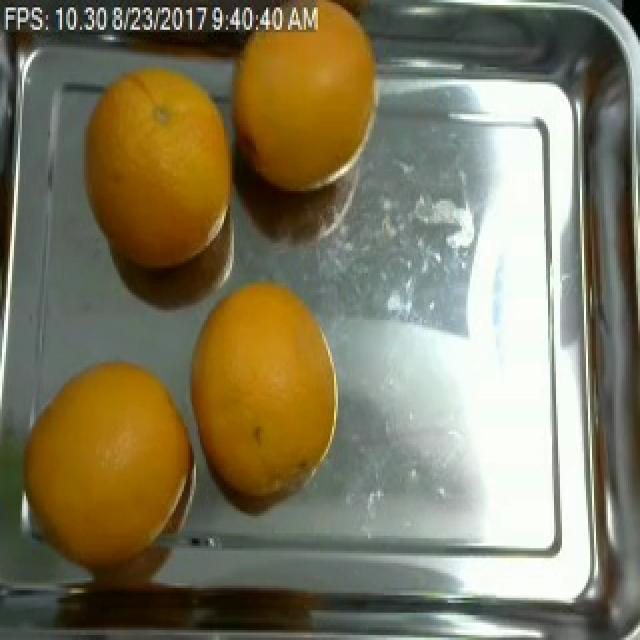Fruit: (216, 0, 380, 223), (176, 266, 346, 457)
